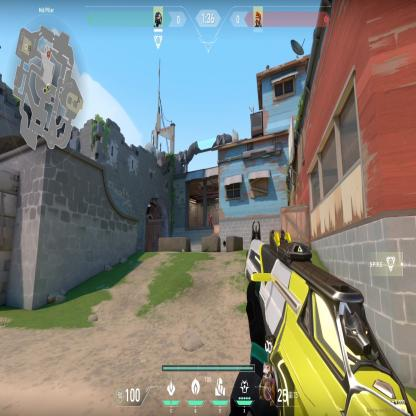enemy: (209, 210, 212, 226)
